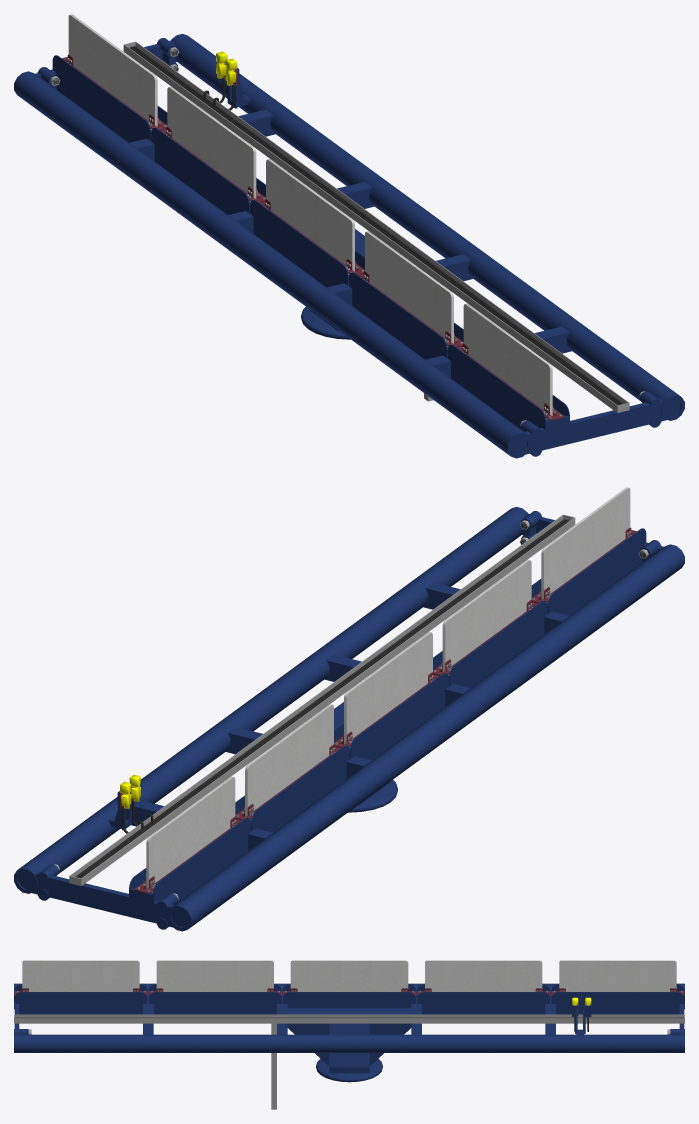
The model's file is Trim Section (Fixed with end sensor).dae.
3 views of the same model, one above another, from view 1: azimuth 30°, elevation 25°; view 2: azimuth 150°, elevation 25°; view 3: azimuth 270°, elevation 25° (orthographic). The views are drawn at different scales.
Visible parts, largest first — view 1: Mid_Detail (×12), Track (×7), High_Detail (×3); view 2: Mid_Detail (×12), Track (×7), High_Detail (×3); view 3: Mid_Detail (×12), Track (×6), High_Detail (×2).
Boxes of the visible parts, x1,y1,x2,y2 form: Mid_Detail (×12): (52,14,629,430); Track (×7): (14,33,684,458); High_Detail (×3): (129,46,623,405); Mid_Detail (×12): (69,487,646,903); Track (×7): (14,506,684,931); High_Detail (×3): (75,519,569,878); Mid_Detail (×12): (14,960,684,1109); Track (×6): (14,983,684,1082); High_Detail (×2): (15,1005,683,1034).
Bounding box in the file's own units: 40.76 × 197 × 40.52.
9 materials, 4 textured.
